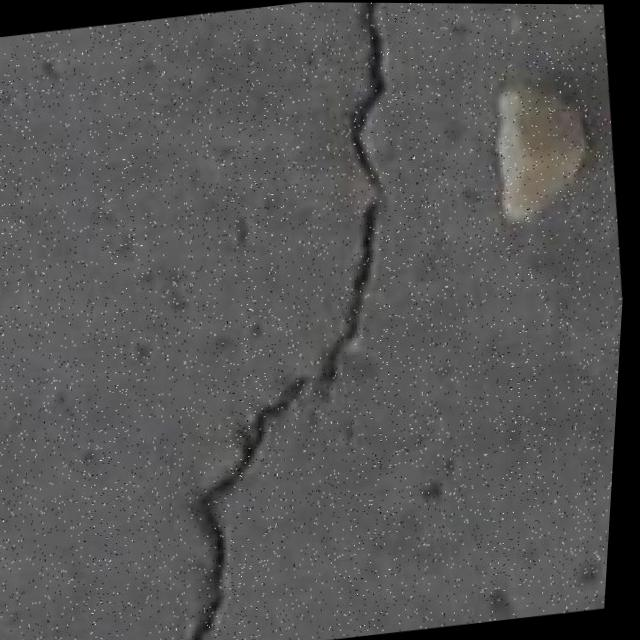Crack: (100, 1, 475, 640)
